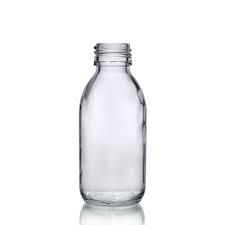bottle: (77, 40, 149, 210)
